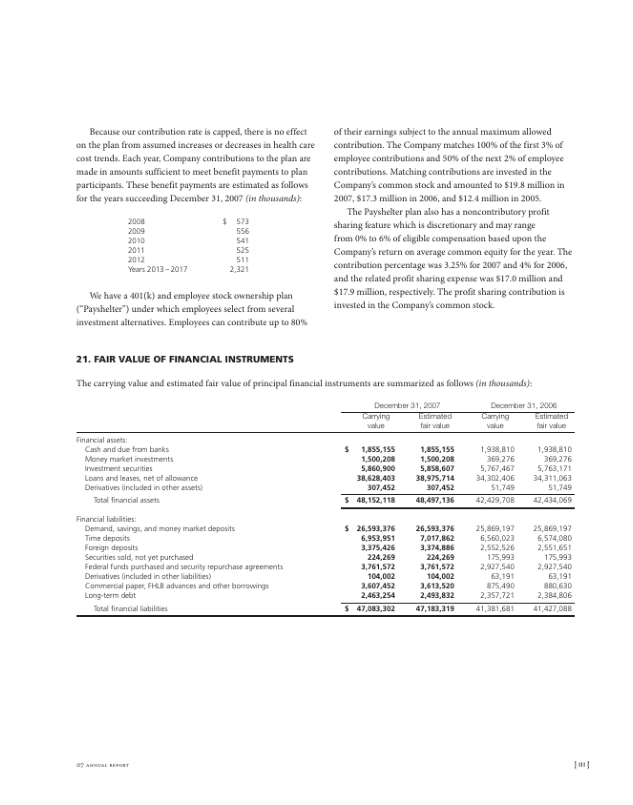table: (70, 391, 579, 624)
